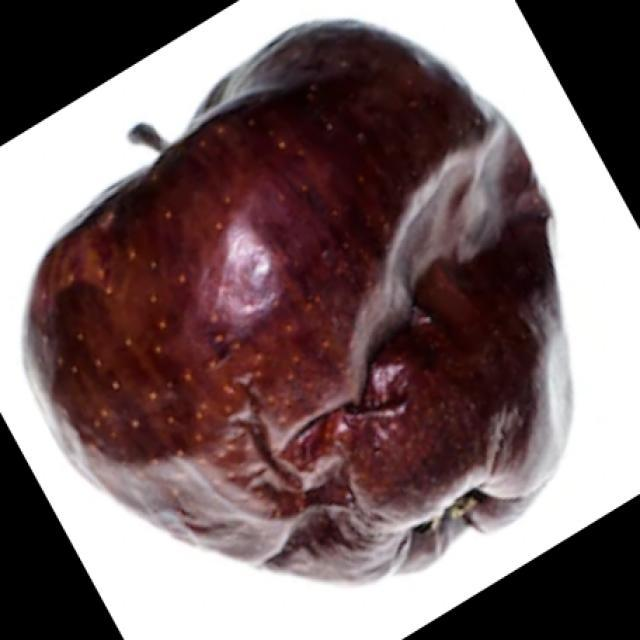Rotten: (38, 50, 577, 578)
